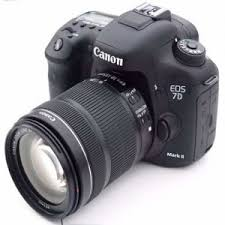camera: (6, 8, 218, 218)
